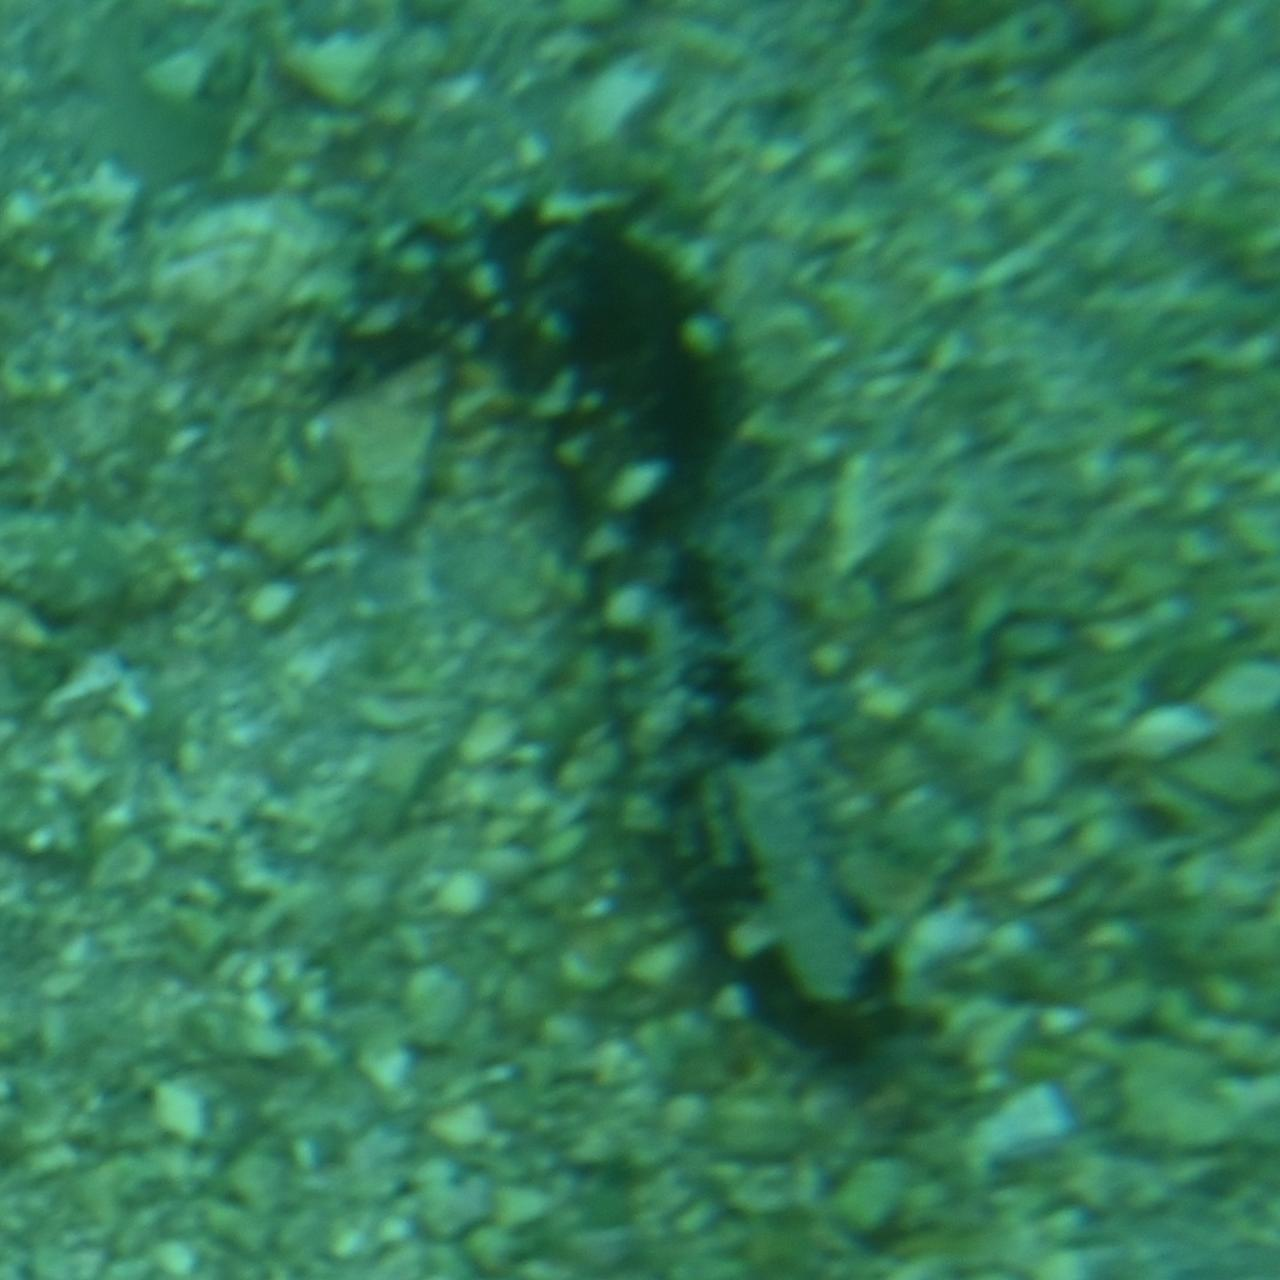Holothuria tubulosa: (354, 180, 926, 1100)
